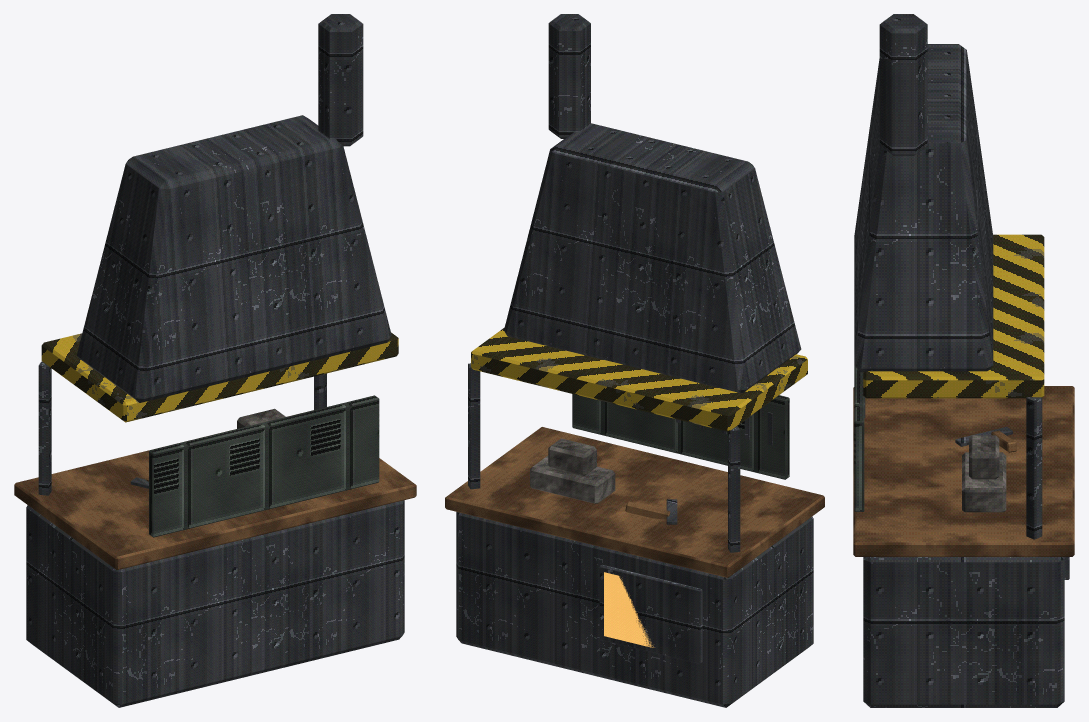
File: prop_weapon_forge.glb
The picture shows the model from 3 angles, left to right: view 1: azimuth 30°, elevation 25°; view 2: azimuth 150°, elevation 25°; view 3: azimuth 270°, elevation 25°; orthographic projection. The views are drawn at different scales.
Visible parts, largest first — view 1: prop_weapon_forge_mesh; view 2: prop_weapon_forge_mesh; view 3: prop_weapon_forge_mesh.
Part boxes in pixels (<box>): prop_weapon_forge_mesh: <box>14,14,416,707</box>; prop_weapon_forge_mesh: <box>445,14,824,707</box>; prop_weapon_forge_mesh: <box>853,14,1074,707</box>.
Size of the model in its own units: 1.86 by 3.64 by 1.1.
6 materials, 6 textured.
